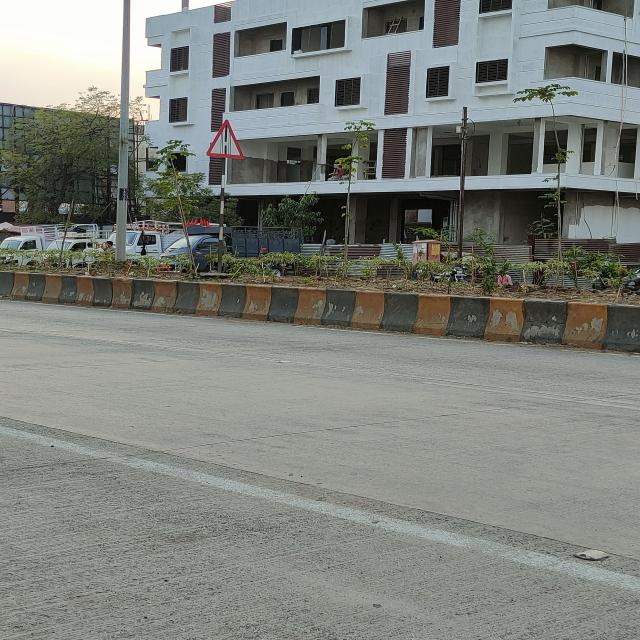GAP_IN_MEDIAN: (206, 119, 246, 159)
